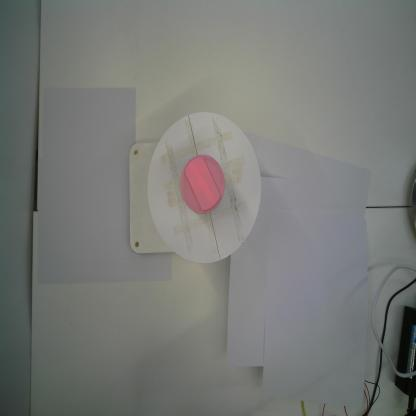Canned Food: (180, 154, 225, 214)
